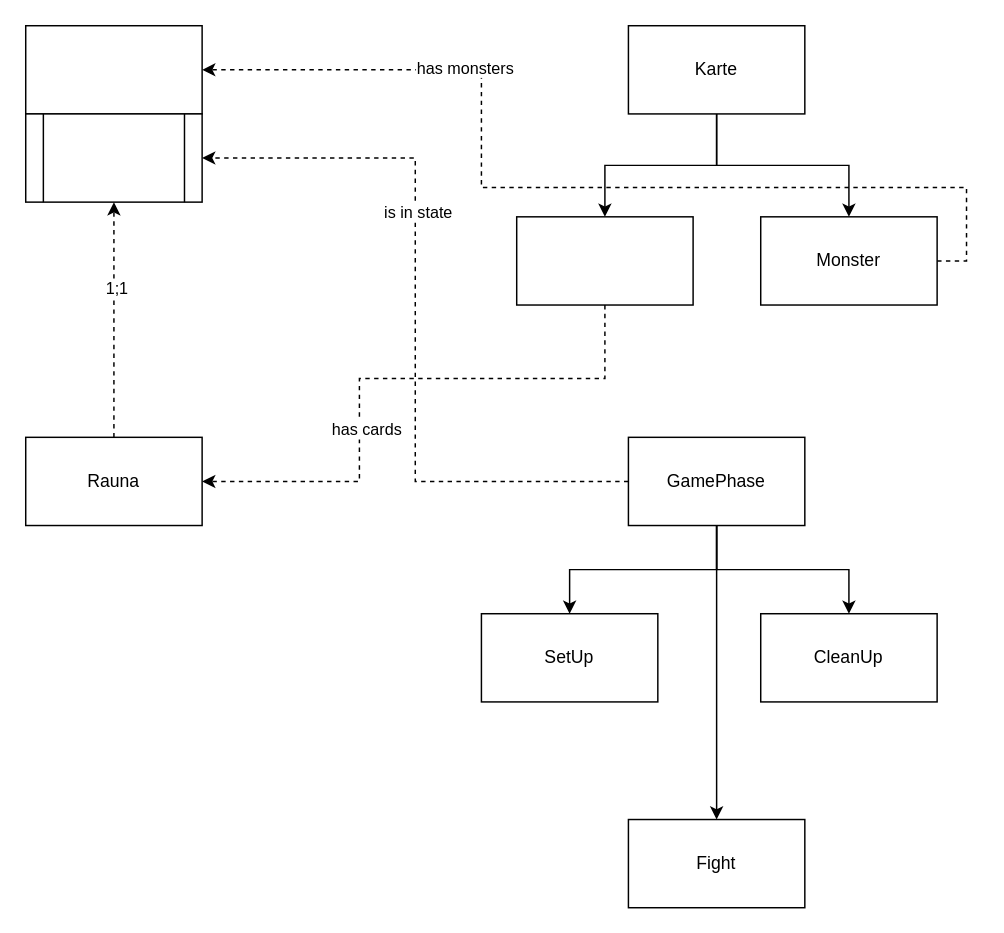
Some shapes in this 1004 by 933 pixel diagram are drawn without their labels. Here are the shapes that lost their labels. From the top down, the centre of each, then its label:
At [113,69]: "Game".
At [113,157]: "GamePhase state".
At [604,260]: "Fähigkeiten".
